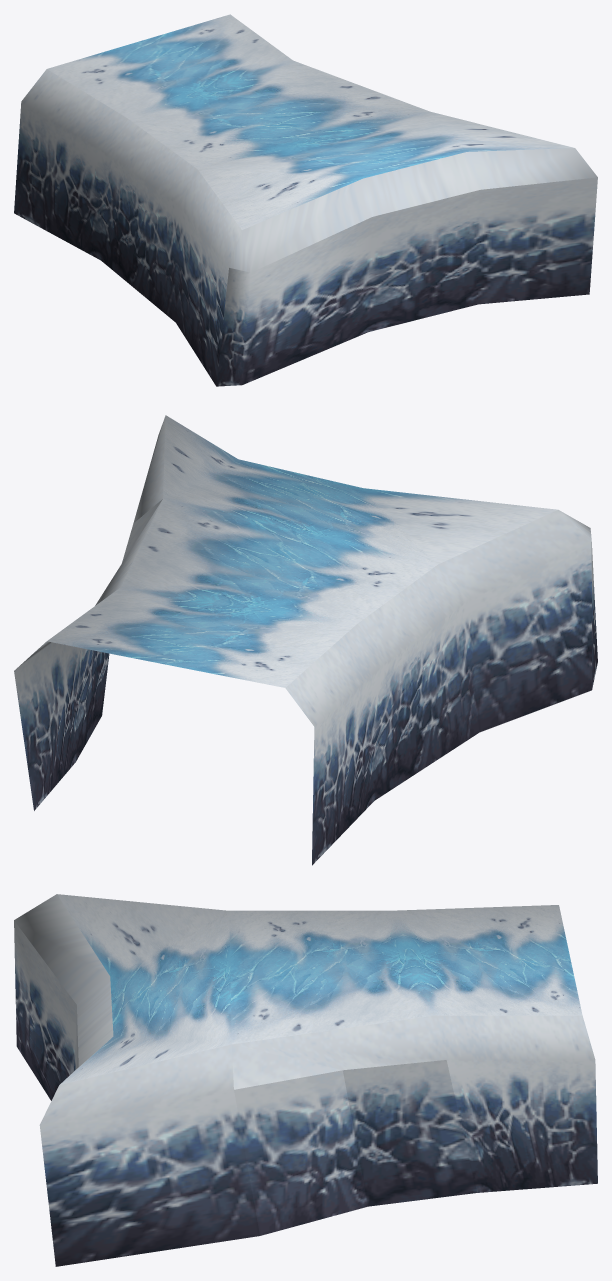
File: bs_binshan_16.FBX
3 views of the same model, one above another, from view 1: azimuth 30°, elevation 25°; view 2: azimuth 150°, elevation 25°; view 3: azimuth 270°, elevation 25° (orthographic). The views are drawn at different scales.
Parts seen in each view (by area): view 1: bs_binshan_16; view 2: bs_binshan_16; view 3: bs_binshan_16.
Boxes of the visible parts, left/top/right/bottom form: bs_binshan_16: left=14, top=14, right=597, bottom=386; bs_binshan_16: left=14, top=415, right=597, bottom=865; bs_binshan_16: left=14, top=894, right=597, bottom=1266.
Bounding box in the file's own units: 3082 × 1164 × 3537.
